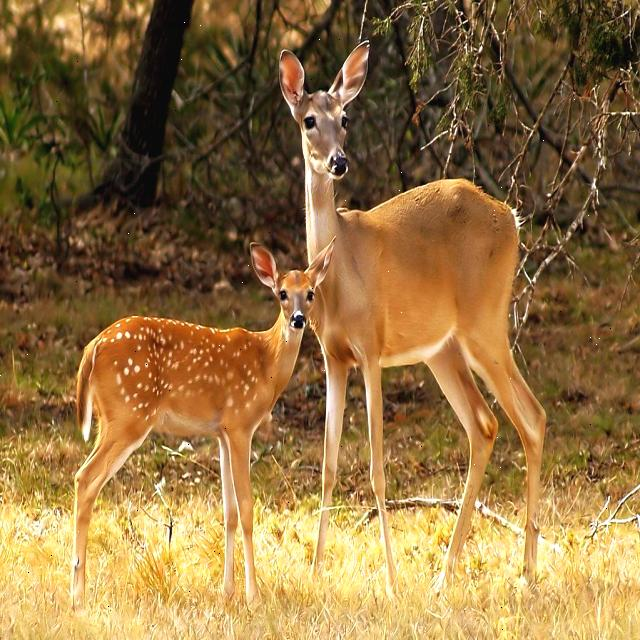deer: (300, 21, 546, 532), (56, 228, 335, 600)
